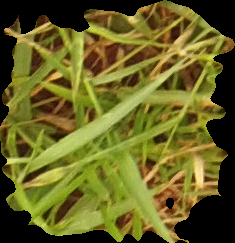grass: (1, 1, 233, 241)
